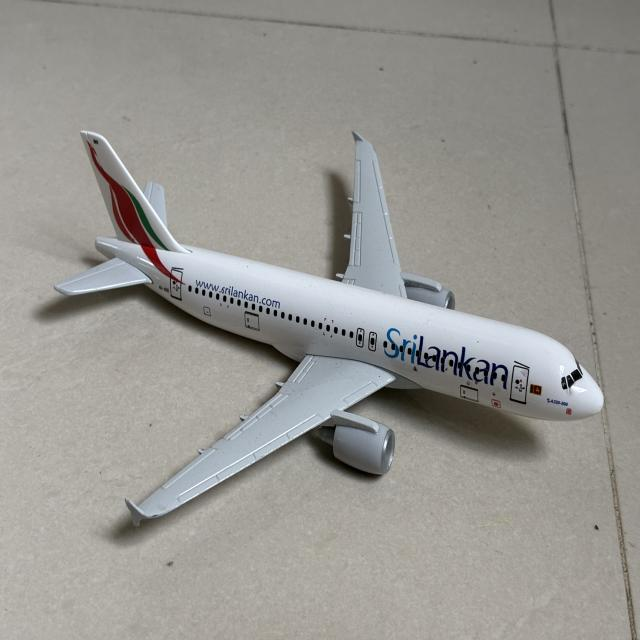air-plane: (55, 131, 603, 526)
